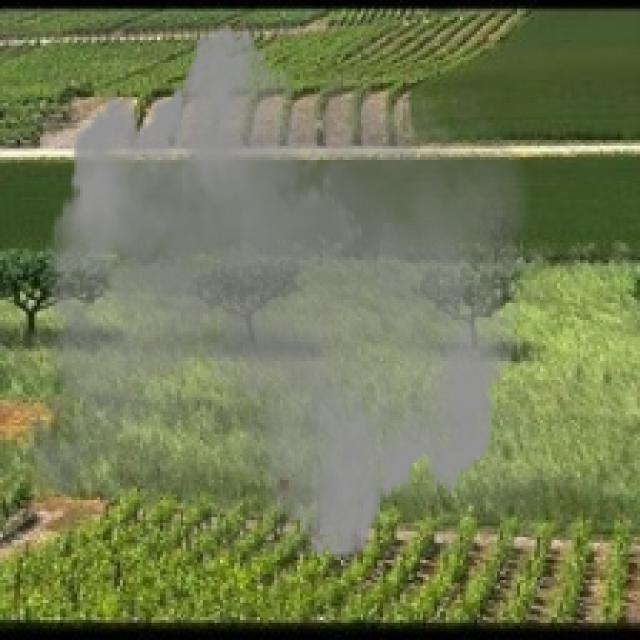smoke: (8, 9, 543, 577)
